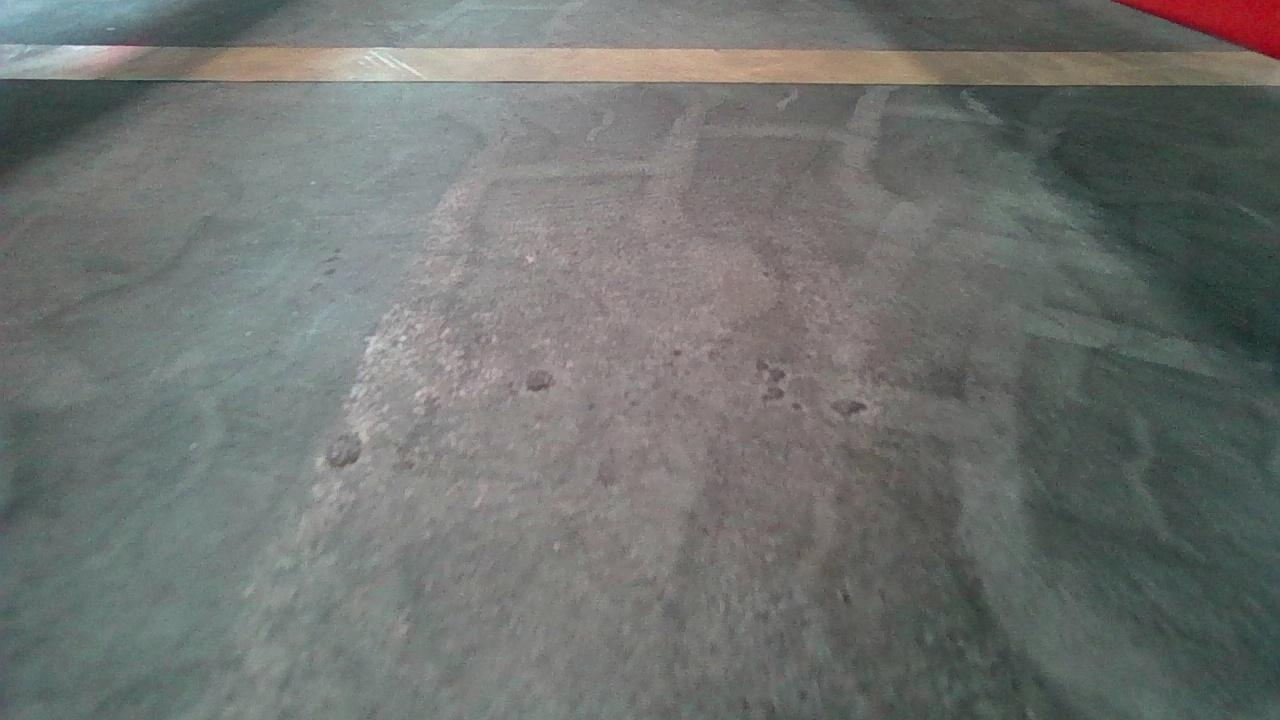yellow_line: (0, 30, 1270, 93)
